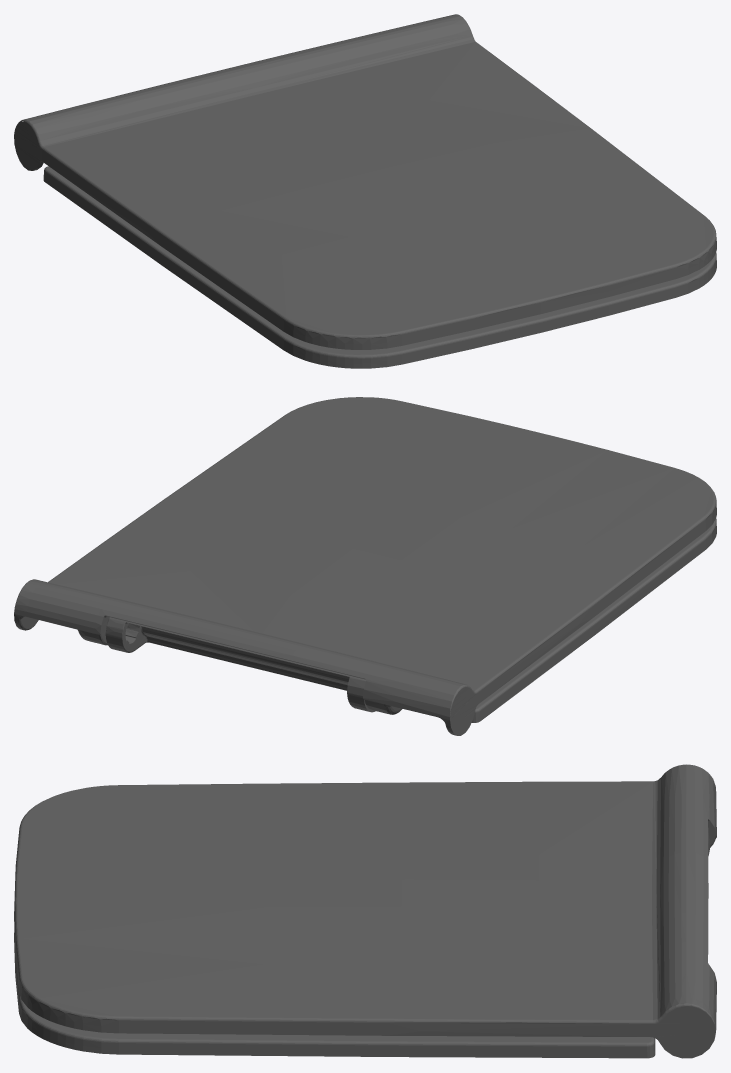
Rendered from AEC_49199.glb.
3 views of the same model, one above another, from view 1: azimuth 30°, elevation 25°; view 2: azimuth 150°, elevation 25°; view 3: azimuth 270°, elevation 25° (orthographic). The views are drawn at different scales.
Parts seen in each view (by area): view 1: 0; view 2: 0; view 3: 0.
Boxes of the visible parts, left/top/right/bottom form: 0: left=14, top=14, right=716, bottom=368; 0: left=14, top=397, right=716, bottom=735; 0: left=14, top=764, right=716, bottom=1058.
Size of the model in its own units: 0.3675 by 0.051 by 0.4506.
Materials: 1 (1 with a texture image).
